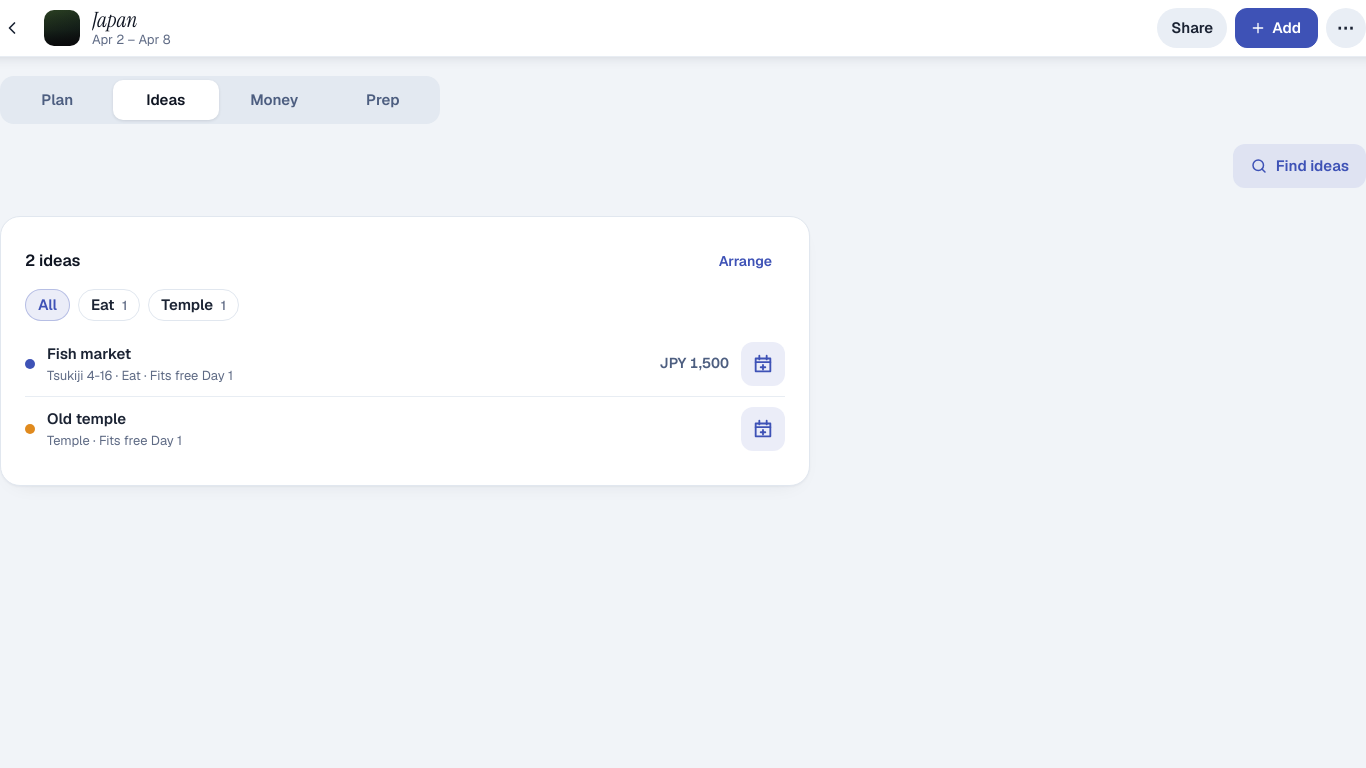
Test case: the finder sheet › keeps the sheet open after a save, so several can be saved, and marks each saved
Click the button "Find ideas".
click(1299, 166)  # box 1233,144 -> 1365,188
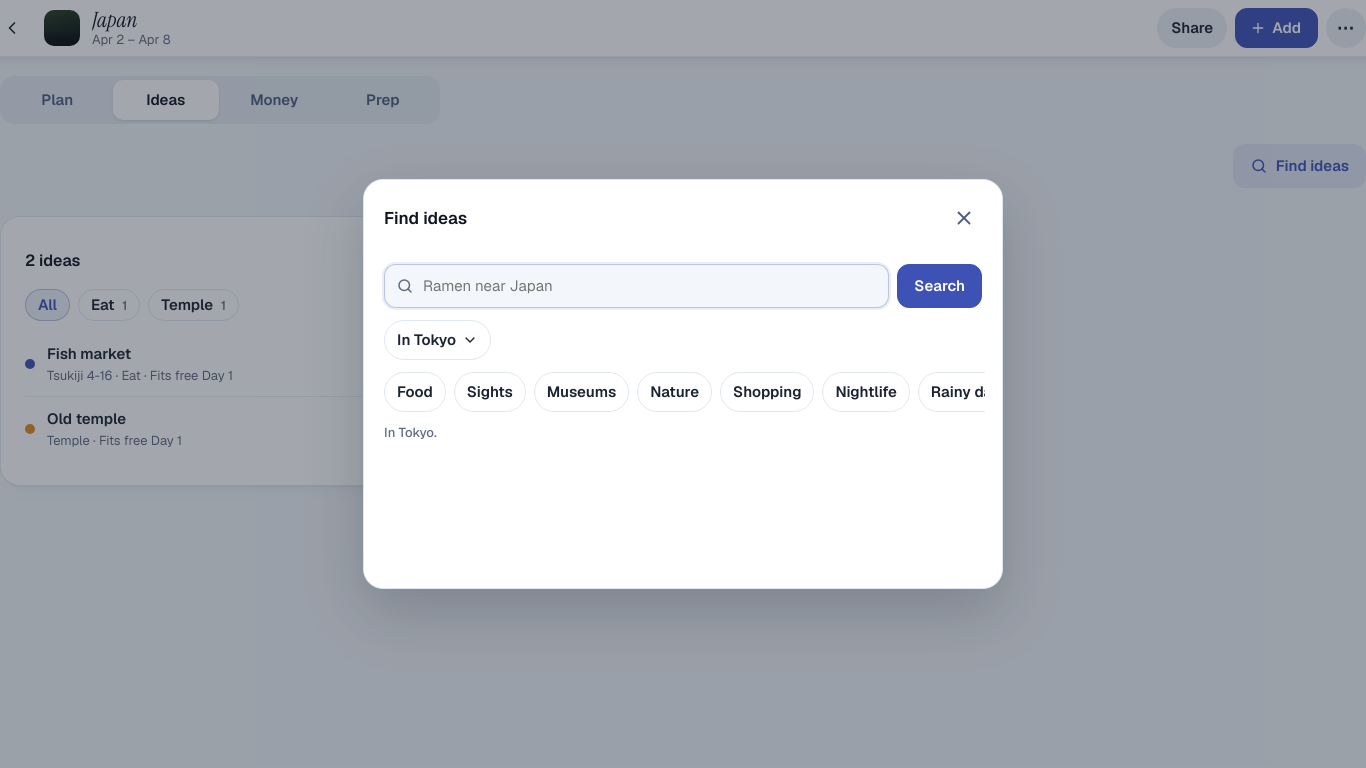
Type "noodles" into the field named "Look for".
click(637, 286); type("noodles")  # box 384,264 -> 889,308
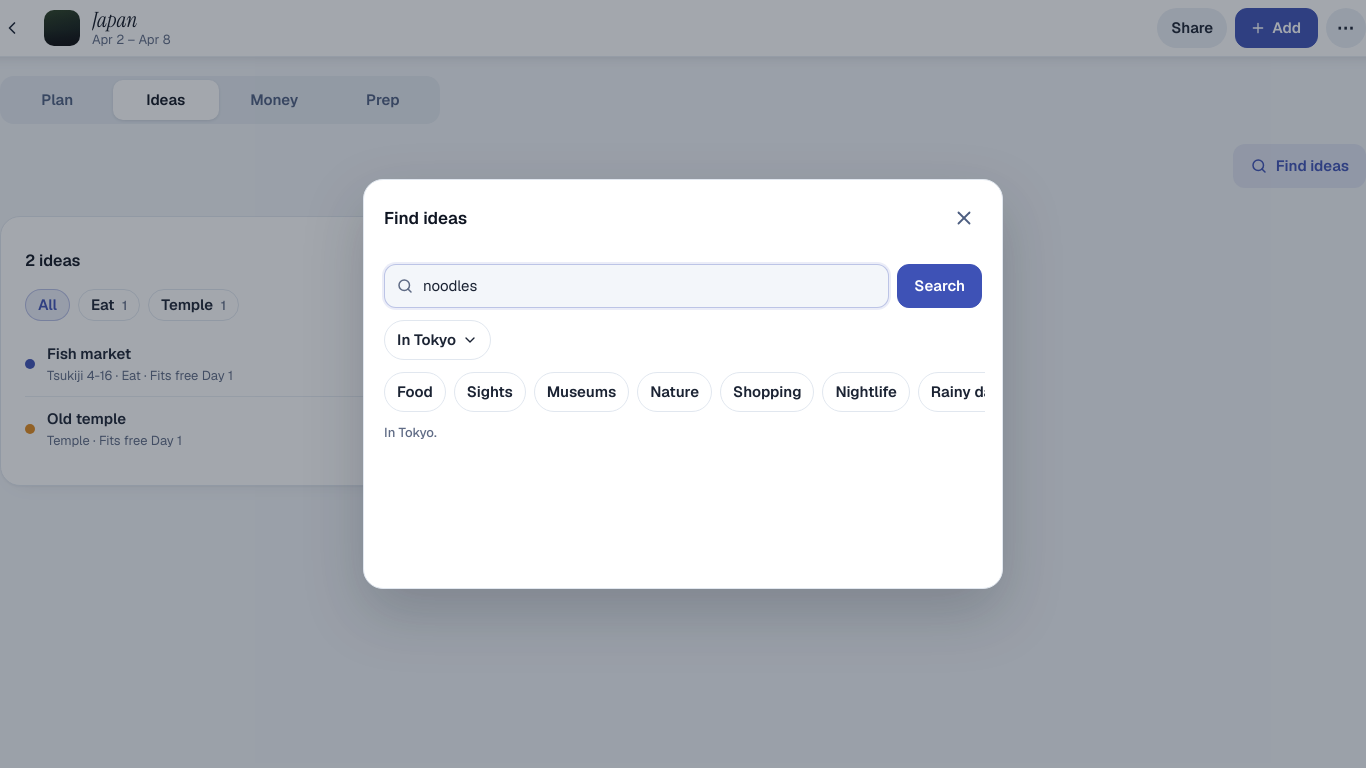
Click the button "Search".
click(940, 286)  # box 897,264 -> 982,308
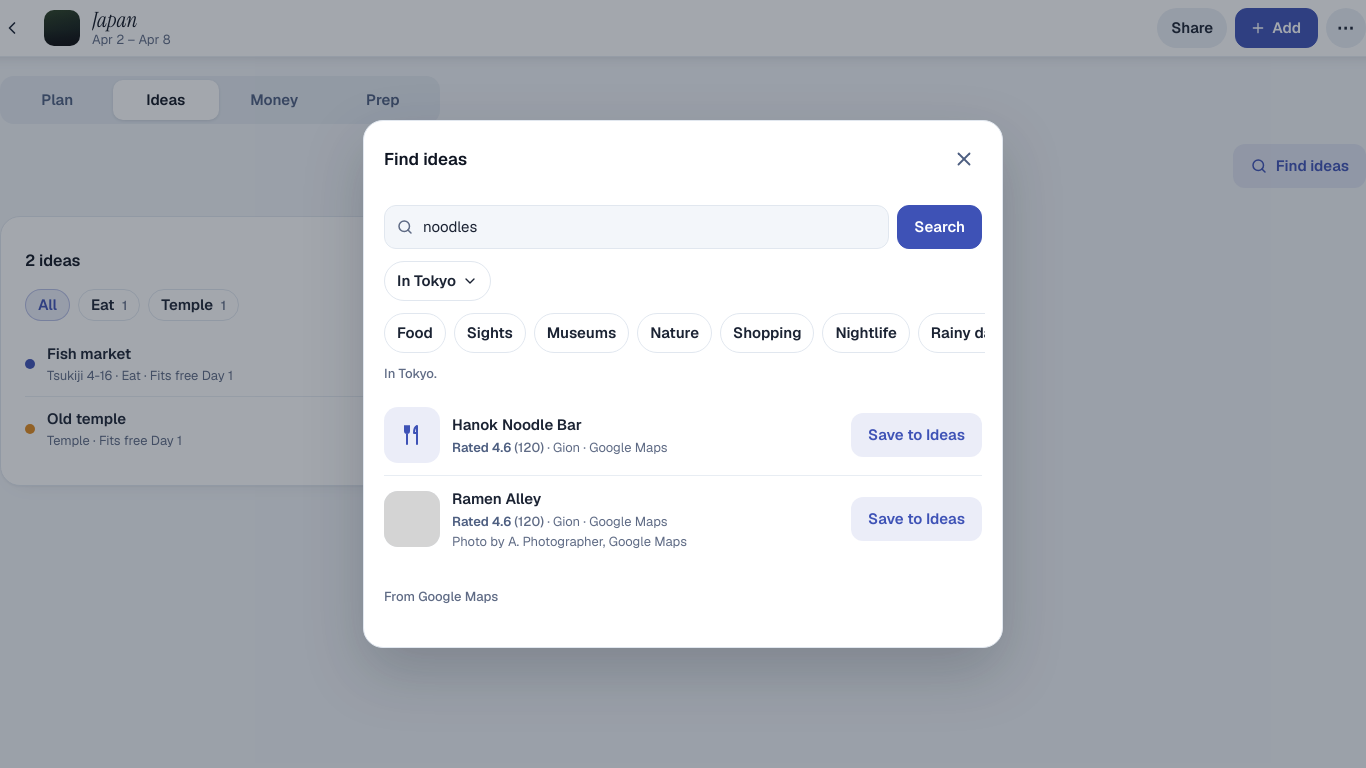
Now the element with class "find-meta" reads "Rated 4.6 (120) · Gion · Google Maps", box 452,438 -> 668,456
Now the element with class "find-tile" is shown, box 384,407 -> 440,463
Click the button with aria-label "Save: Hanok Noodle Bar".
click(916, 435)  # box 851,413 -> 982,457
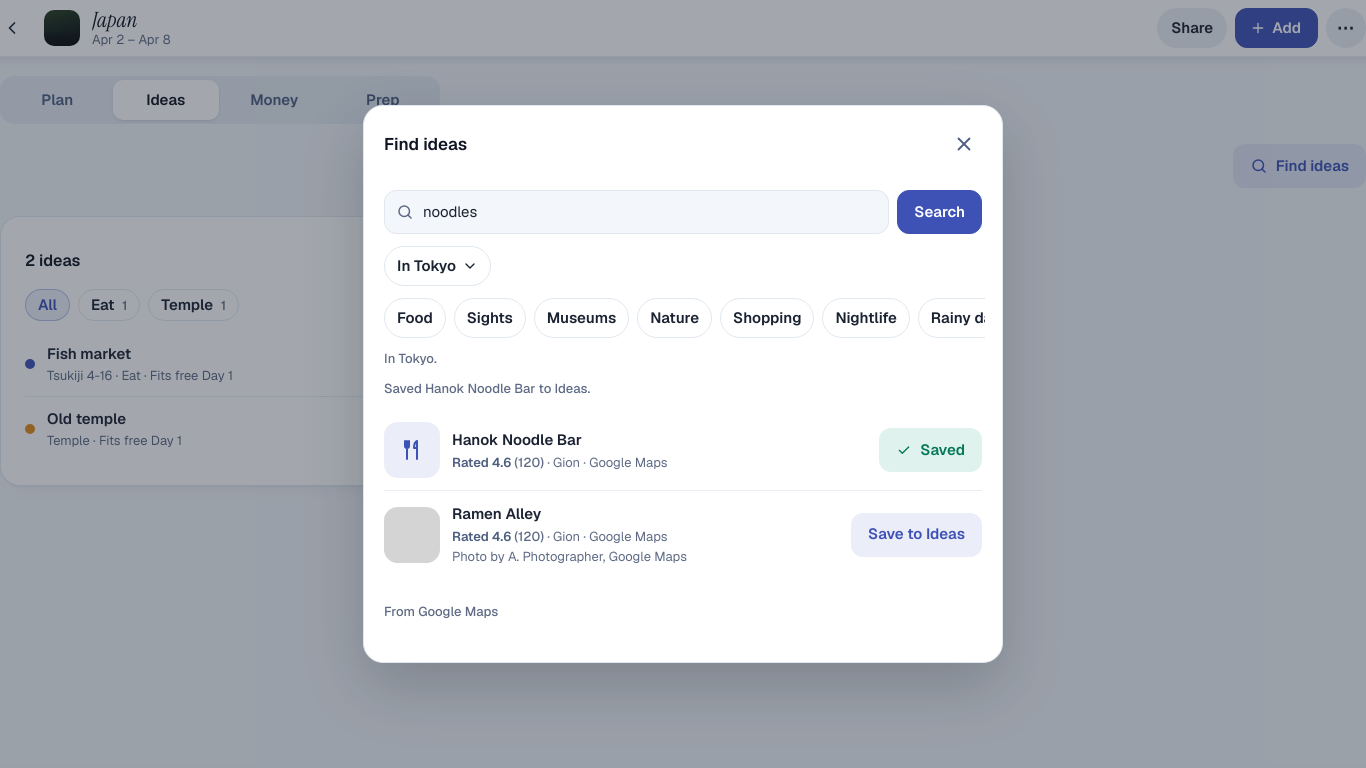
Now the dialog "Find ideas" is shown, box 363,105 -> 1003,663
Now the button with aria-label "Hanok Noodle Bar is saved" is disabled, box 879,428 -> 982,472
Now the button with aria-label "Hanok Noodle Bar is saved" reads "Saved", box 879,428 -> 982,472
Click the button with aria-label "Save: Ramen Alley".
click(916, 535)  # box 851,513 -> 982,557
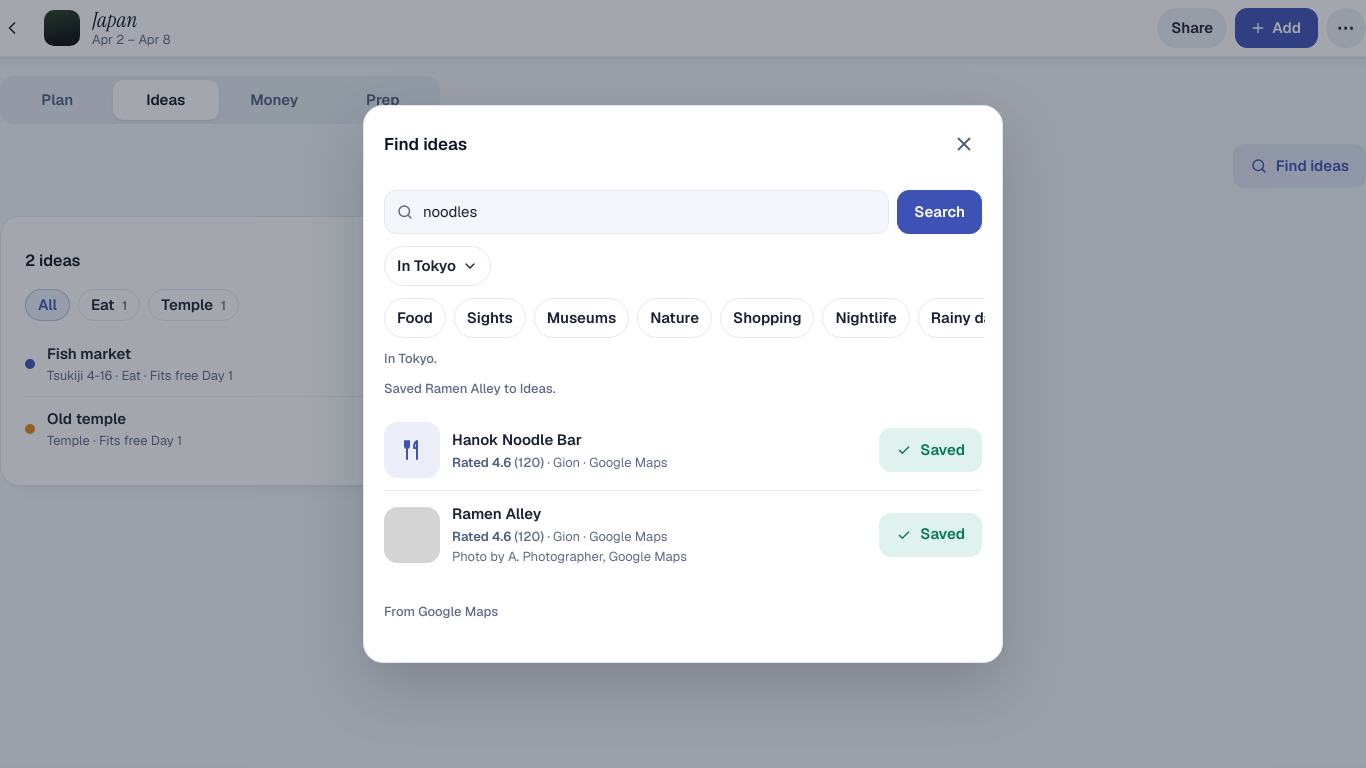
Now the button with aria-label "Ramen Alley is saved" is disabled, box 879,513 -> 982,557
